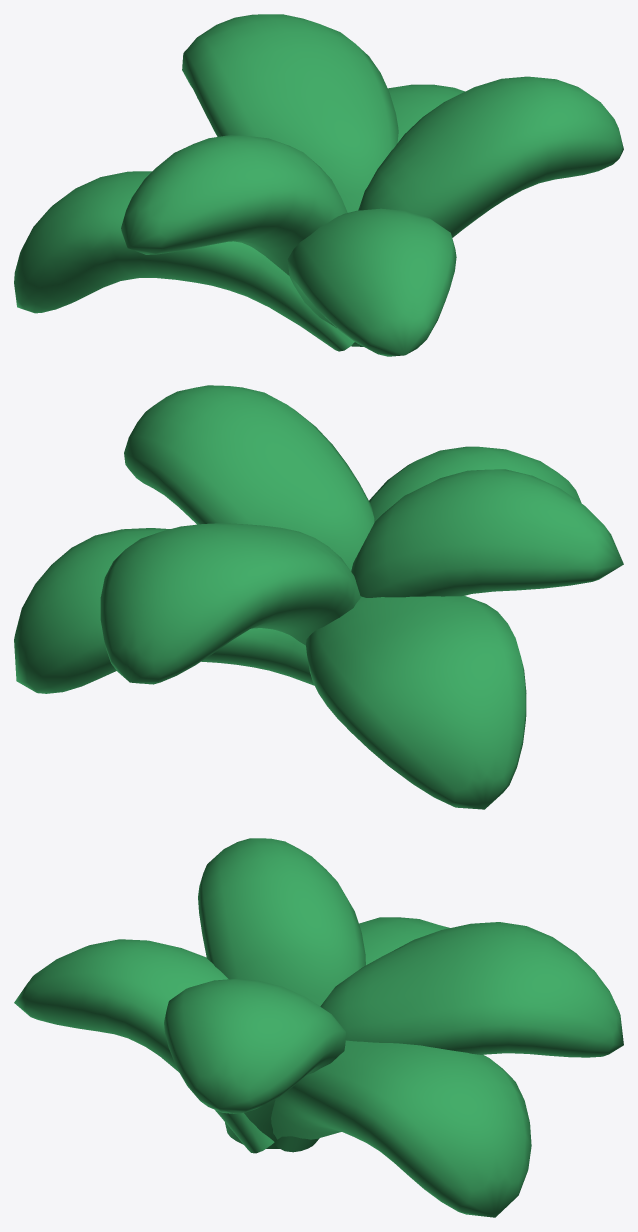
The model's file is Herb_C_01.fbx.
3 renders of one model, top to bottom at view 1: azimuth 30°, elevation 25°; view 2: azimuth 150°, elevation 25°; view 3: azimuth 270°, elevation 25°, orthographic. The views are drawn at different scales.
Visible parts, largest first — view 1: Herb_C_01_LOD0; view 2: Herb_C_01_LOD0; view 3: Herb_C_01_LOD0.
Part boxes in pixels (left/top/right/bottom): Herb_C_01_LOD0: left=14, top=14, right=623, bottom=356; Herb_C_01_LOD0: left=14, top=385, right=623, bottom=809; Herb_C_01_LOD0: left=14, top=838, right=623, bottom=1217.
Size of what is drawn, in the model's own units: 512 by 233 by 568.
